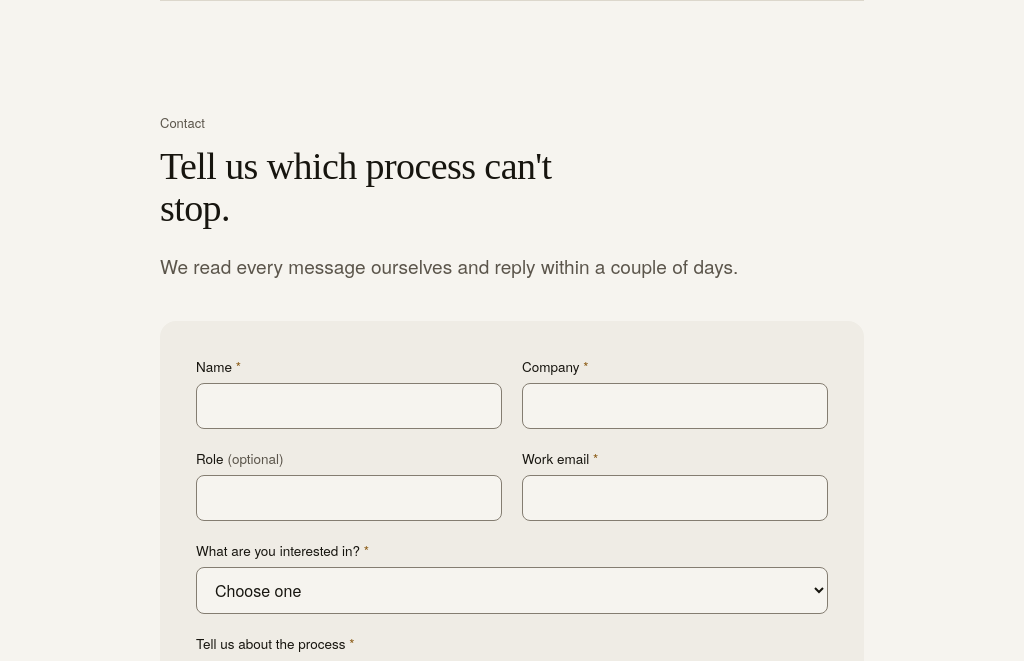
Scenario: Contact form delivery › confirms only when FormSubmit reports success:"true"
Type "Ada" into the field labelled "Name *" at (349, 406), box [196,383,502,429]
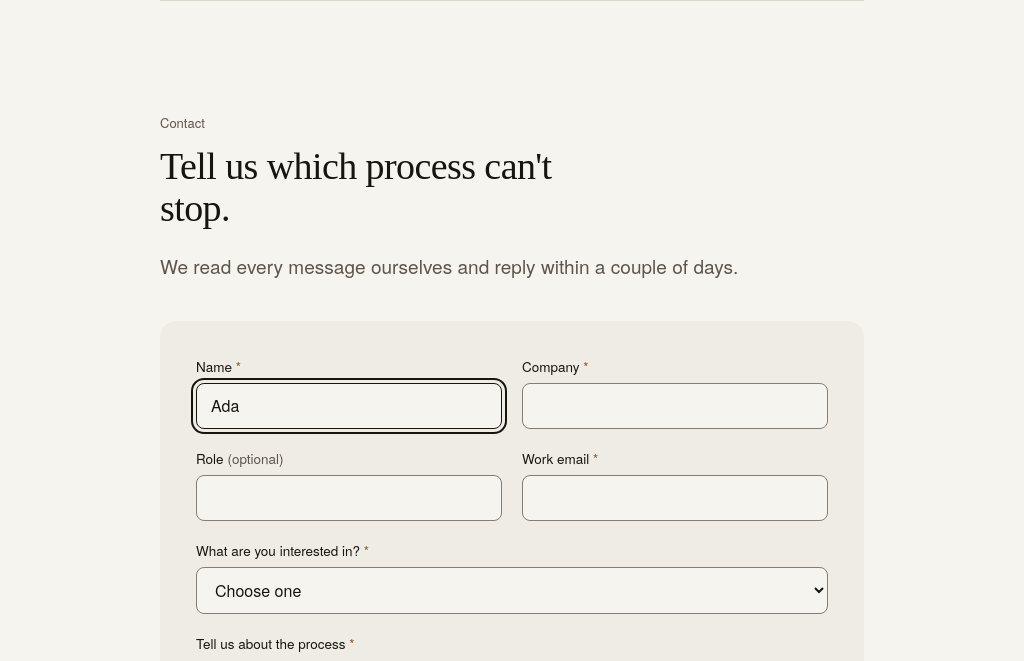
Type "Analytical Engines" into the field labelled "Company *" at (675, 406), box [522,383,828,429]
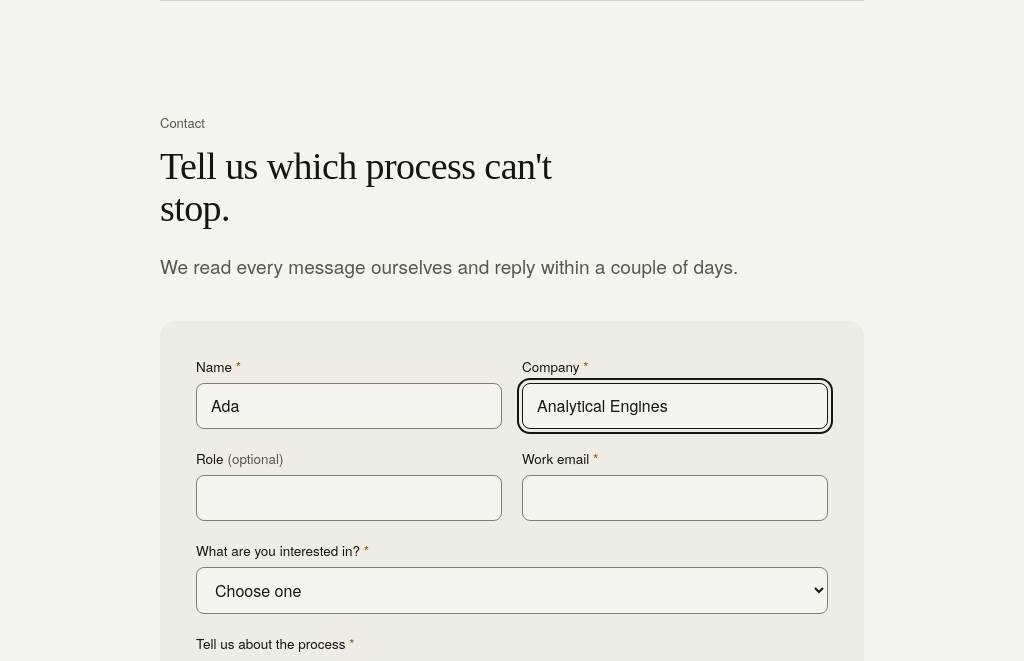
Type "ada@example.com" into the field labelled "Work email *" at (675, 498), box [522,475,828,521]
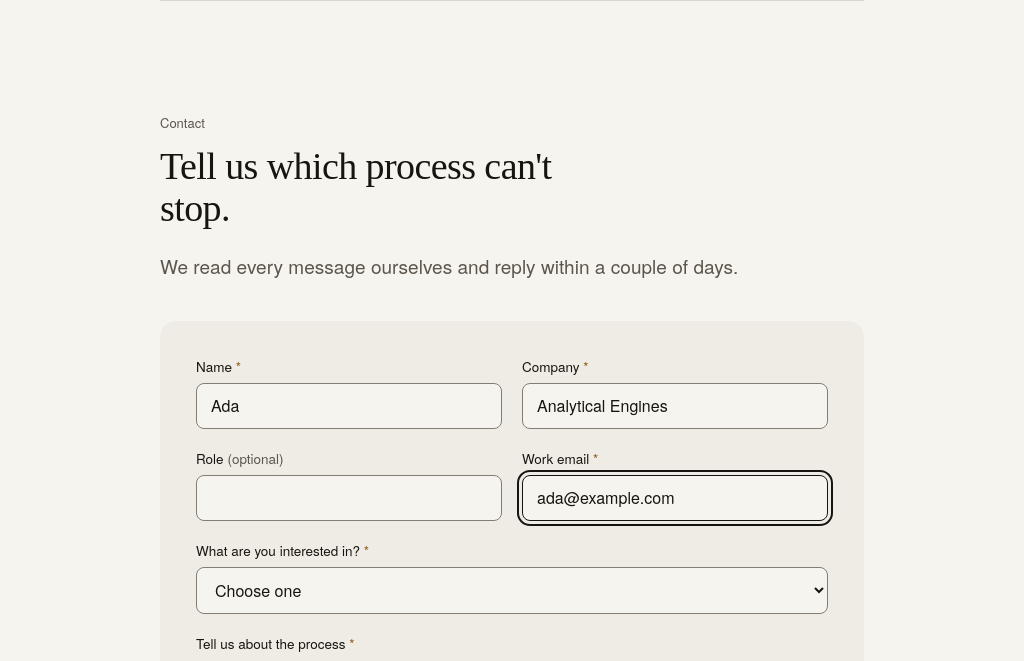
Select "Building an automation or AI agent" in the dropdown labelled "What are you interested in?" at (512, 591), box [196,567,828,614]
(page scrolled)
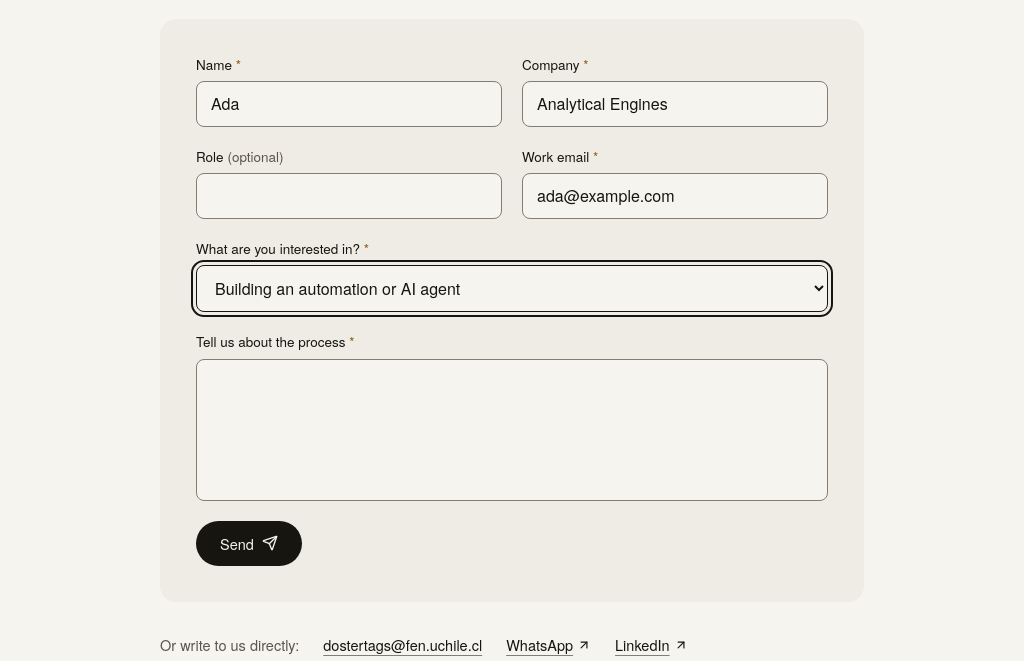
Type "A payments integration." into the text box labelled "Tell us about the process *" at (512, 430), box [196,359,828,501]
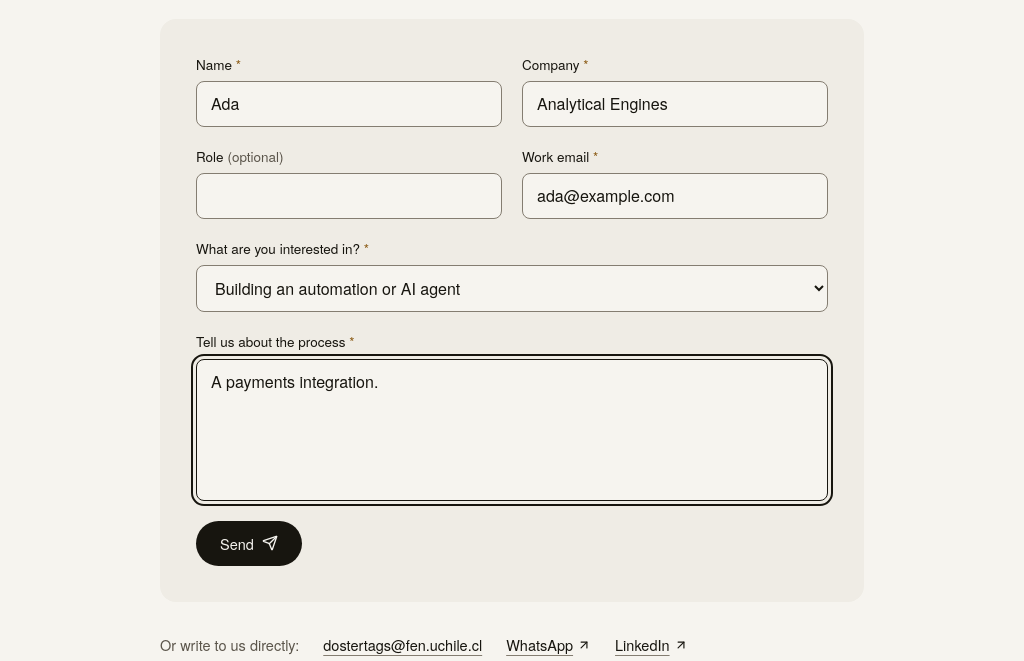
Click the button "Send" at (249, 544), box [196,521,302,566]
(page scrolled)
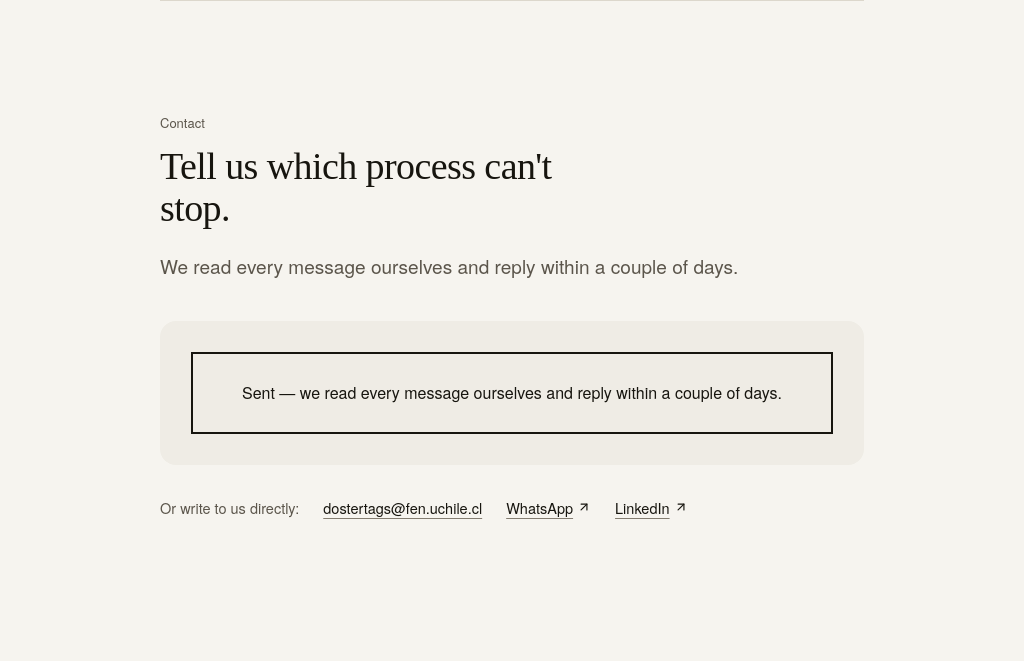
Expected: the message reads "Sent — we read every message ourselves and reply within a couple of days.", [242,381,782,404]
